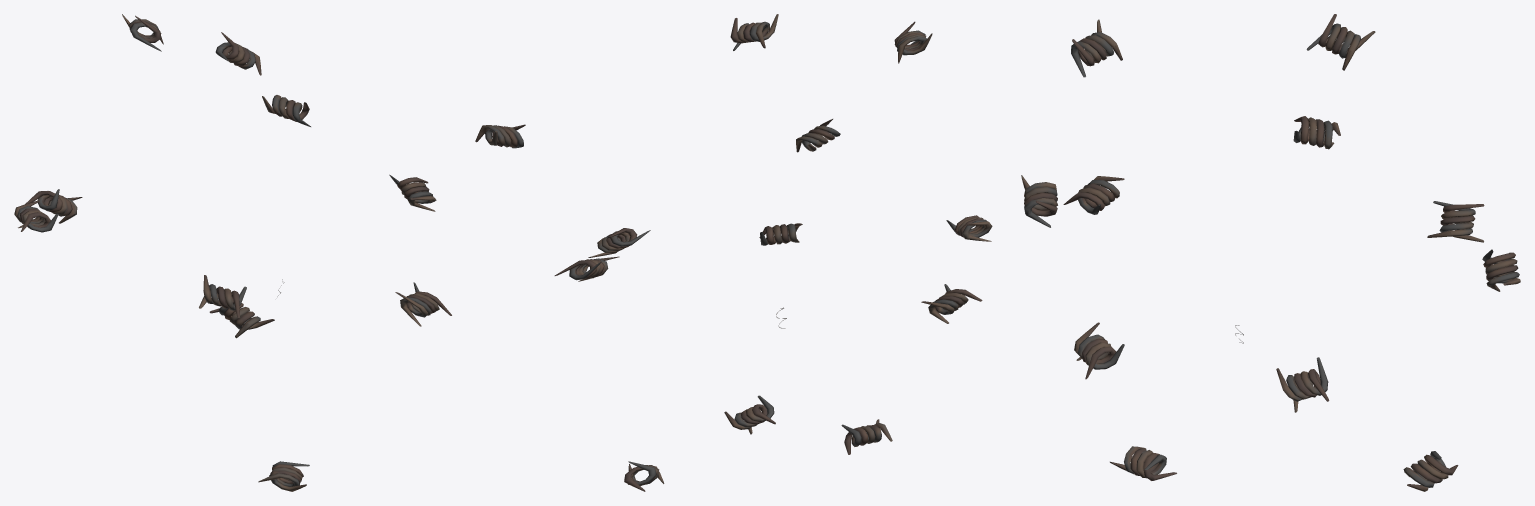
Rendered from barbedSoloq.glb.
3 views of the same model, side by side, from view 1: azimuth 30°, elevation 25°; view 2: azimuth 150°, elevation 25°; view 3: azimuth 270°, elevation 25° (orthographic). The views are drawn at different scales.
Visible parts, largest first — view 1: Rail_Wire_6, Rail_Wire_5, Rail_Wire_3, Rail_Wire, Rail_Wire_8, Rail_Wire_11, Rail_Wire_7, Rail_Wire_4, Rail_Wire_10, Rail_Wire_2, Rail_Wire_9; view 2: Rail_Wire_11, Rail_Wire_4, Rail_Wire_3, Rail_Wire, Rail_Wire_8, Rail_Wire_7, Rail_Wire_10, Rail_Wire_5, Rail_Wire_9, Rail_Wire_6, Rail_Wire_2; view 3: Rail_Wire_7, Rail_Wire_6, Rail_Wire_10, Rail_Wire_8, Rail_Wire_9, Rail_Wire_11, Rail_Wire_5, Rail_Wire, Rail_Wire_2, Rail_Wire_3, Rail_Wire_4.
Part boxes in pixels (bbox=[...]): Rail_Wire_6: bbox=[395, 282, 451, 326]; Rail_Wire_5: bbox=[199, 275, 246, 317]; Rail_Wire_3: bbox=[25, 189, 82, 223]; Rail_Wire: bbox=[258, 461, 309, 491]; Rail_Wire_8: bbox=[215, 32, 261, 75]; Rail_Wire_11: bbox=[475, 124, 525, 148]; Rail_Wire_7: bbox=[389, 174, 436, 211]; Rail_Wire_4: bbox=[14, 200, 58, 232]; Rail_Wire_10: bbox=[262, 95, 310, 126]; Rail_Wire_2: bbox=[209, 294, 274, 338]; Rail_Wire_9: bbox=[122, 14, 163, 51]; Rail_Wire_11: bbox=[730, 14, 778, 50]; Rail_Wire_4: bbox=[921, 284, 982, 323]; Rail_Wire_3: bbox=[724, 395, 775, 434]; Rail_Wire: bbox=[841, 419, 892, 454]; Rail_Wire_8: bbox=[588, 228, 650, 257]; Rail_Wire_7: bbox=[554, 256, 619, 281]; Rail_Wire_10: bbox=[894, 21, 932, 63]; Rail_Wire_5: bbox=[946, 215, 992, 241]; Rail_Wire_9: bbox=[796, 119, 840, 152]; Rail_Wire_6: bbox=[759, 223, 802, 245]; Rail_Wire_2: bbox=[624, 461, 664, 491]; Rail_Wire_7: bbox=[1276, 357, 1329, 412]; Rail_Wire_6: bbox=[1074, 322, 1124, 379]; Rail_Wire_10: bbox=[1071, 19, 1122, 77]; Rail_Wire_8: bbox=[1427, 201, 1484, 242]; Rail_Wire_9: bbox=[1306, 14, 1375, 70]; Rail_Wire_11: bbox=[1021, 175, 1057, 227]; Rail_Wire_5: bbox=[1063, 176, 1124, 214]; Rail_Wire: bbox=[1110, 446, 1176, 480]; Rail_Wire_2: bbox=[1403, 451, 1458, 491]; Rail_Wire_3: bbox=[1482, 249, 1520, 291]; Rail_Wire_4: bbox=[1293, 116, 1340, 149].
Bounding box in the file's own units: 9.39 × 8.85 × 9.29.
1 material, 1 textured.
